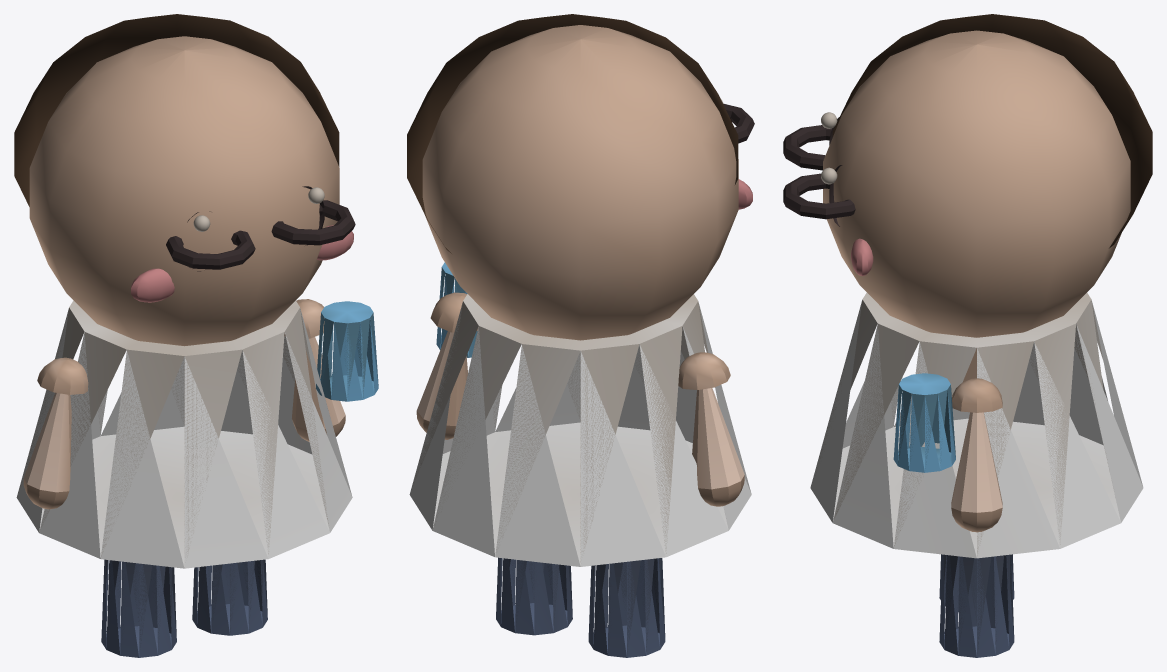
Rendered from pfbbf297d.glb.
3 views of the same model, side by side, from view 1: azimuth 30°, elevation 25°; view 2: azimuth 150°, elevation 25°; view 3: azimuth 270°, elevation 25° (orthographic). The views are drawn at different scales.
Parts seen in each view (by area): view 1: pet_pfbbf297d; view 2: pet_pfbbf297d; view 3: pet_pfbbf297d.
Part boxes in pixels (bbox=[...]): pet_pfbbf297d: bbox=[14, 14, 378, 657]; pet_pfbbf297d: bbox=[407, 14, 754, 657]; pet_pfbbf297d: bbox=[783, 14, 1152, 657].
Bounding box in the file's own units: 0.3532 × 0.625 × 0.3546.
